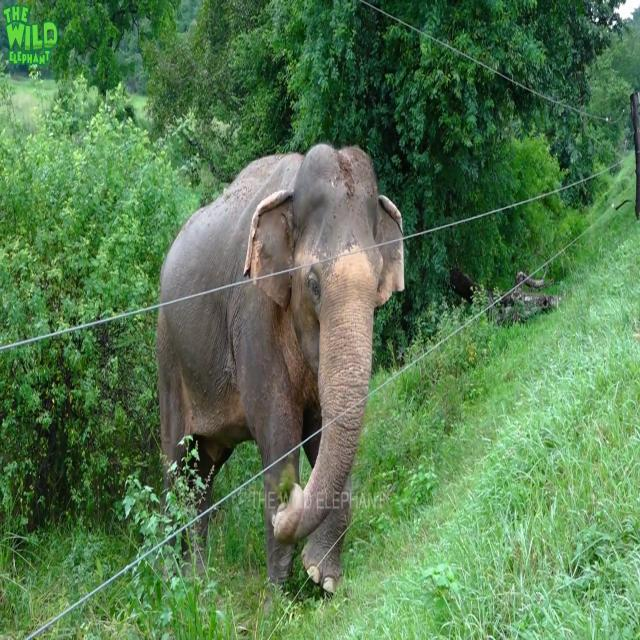Elephant: (154, 142, 405, 610)
